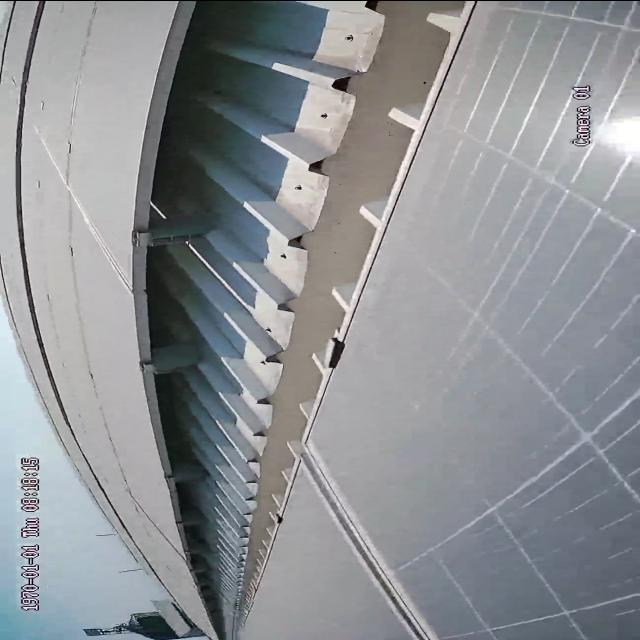interior panel: (299, 441, 432, 640), (35, 132, 128, 289)
outher panel: (137, 1, 477, 640)
